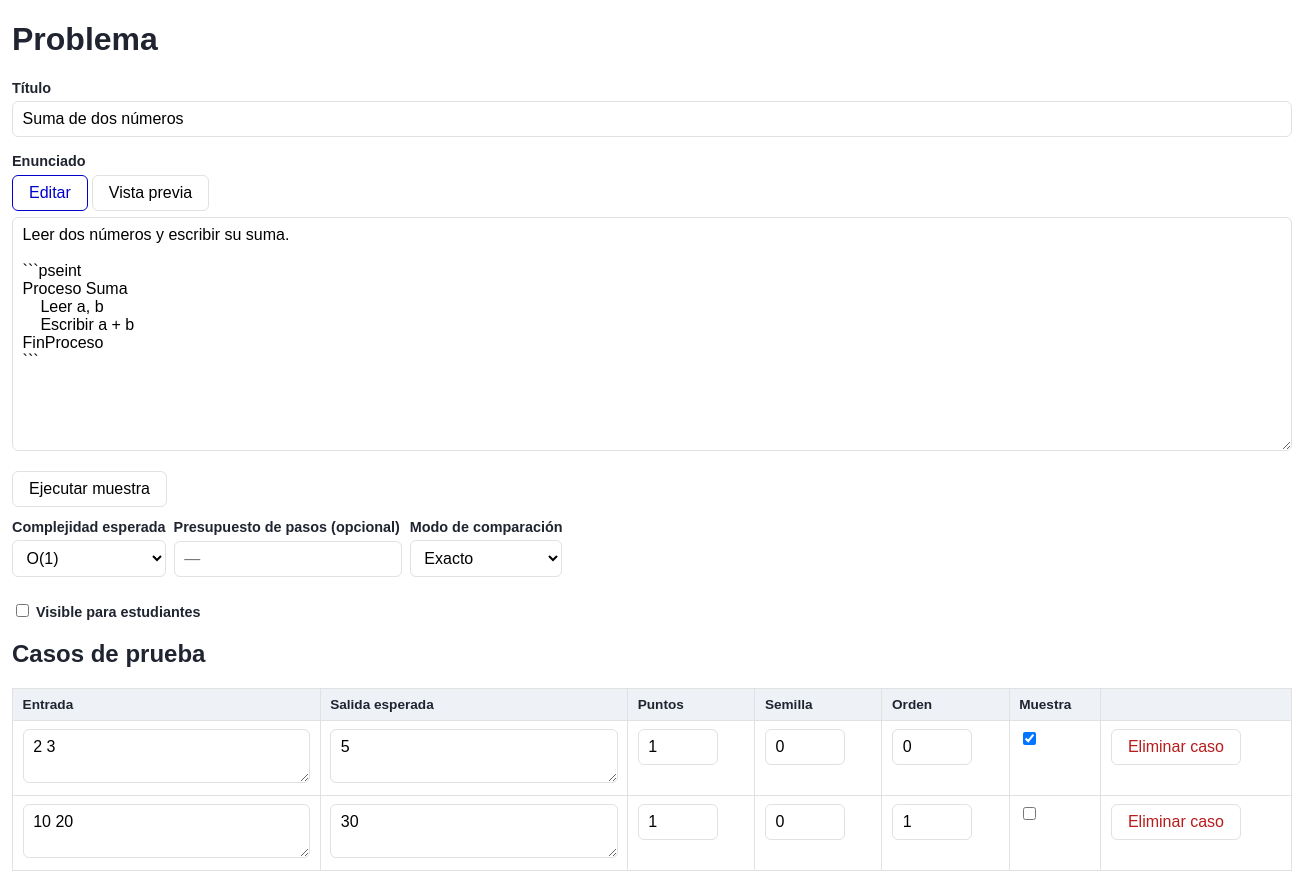
it: admin problems › runs sample validation and shows errors inline
Expected: the field showing "Suma de dos números" is shown, x1=12 y1=102 x2=1292 y2=138
Click the button "Ejecutar muestra": (89,489) x1=12 y1=471 x2=167 y2=507
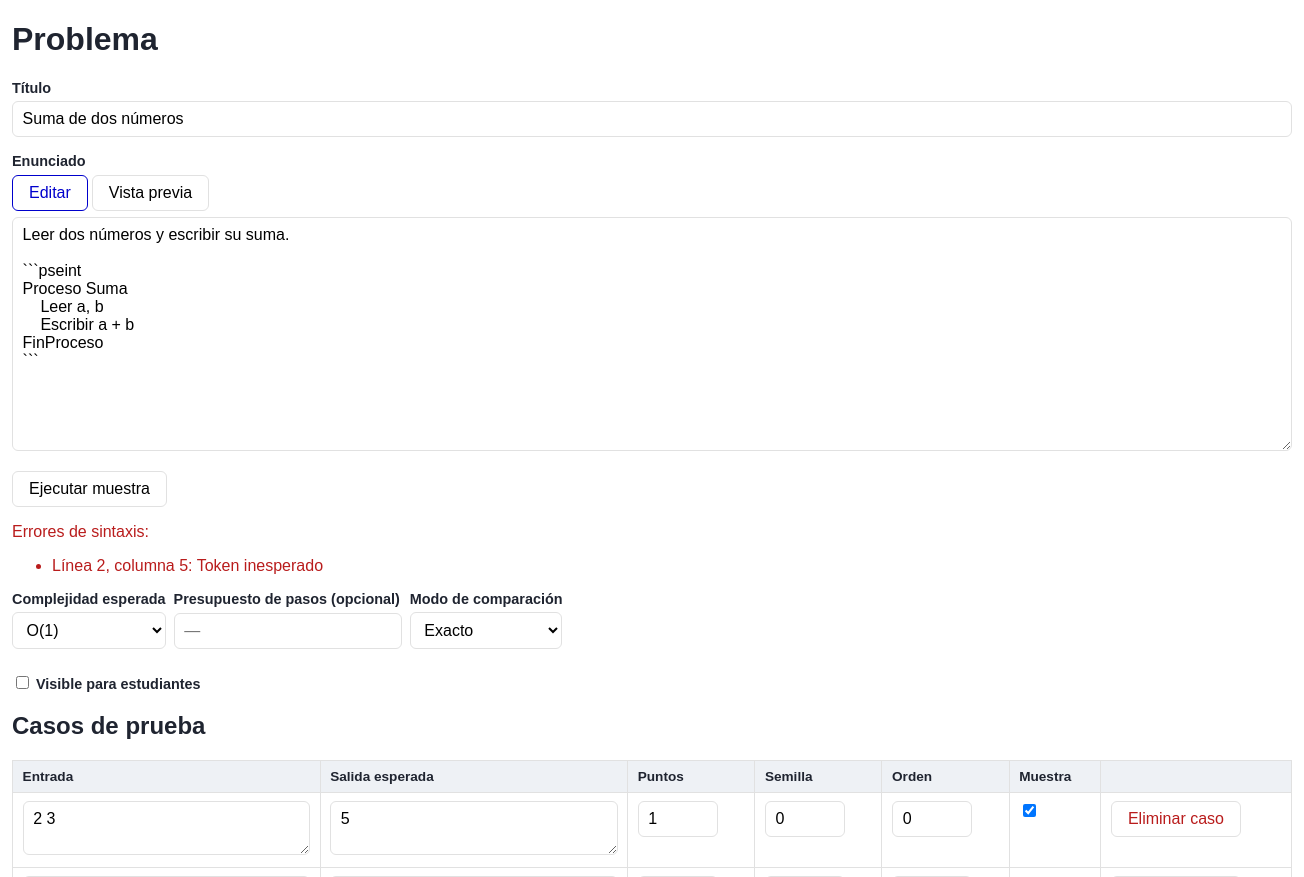
Result: the list item "Línea 2, columna 5: Token inesperado" is shown at x1=52 y1=557 x2=323 y2=574
